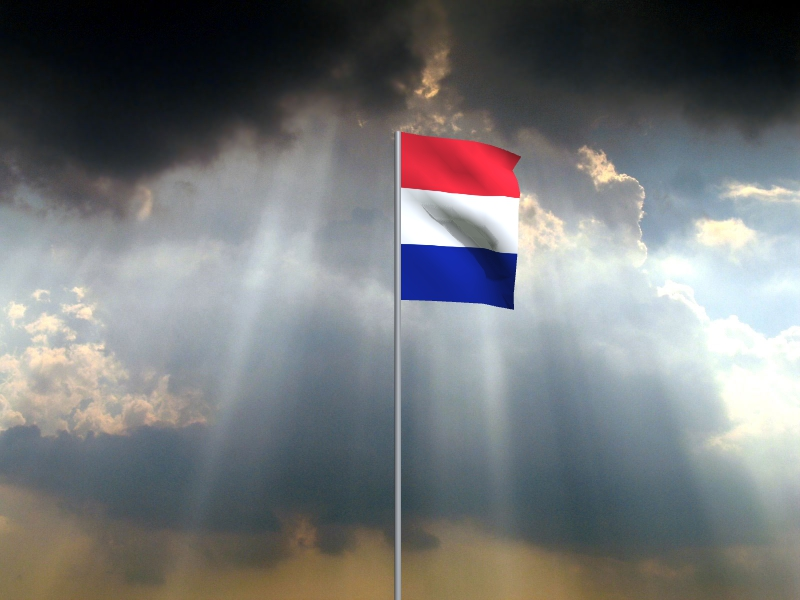fr: (401, 133, 523, 311)
